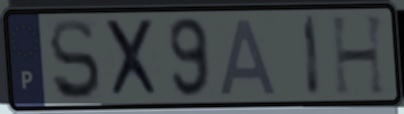9: (166, 15, 214, 101)
A: (218, 16, 281, 98)
H: (328, 11, 390, 98)
I: (302, 12, 324, 100)
S: (46, 15, 104, 104)
X: (101, 16, 165, 101)
